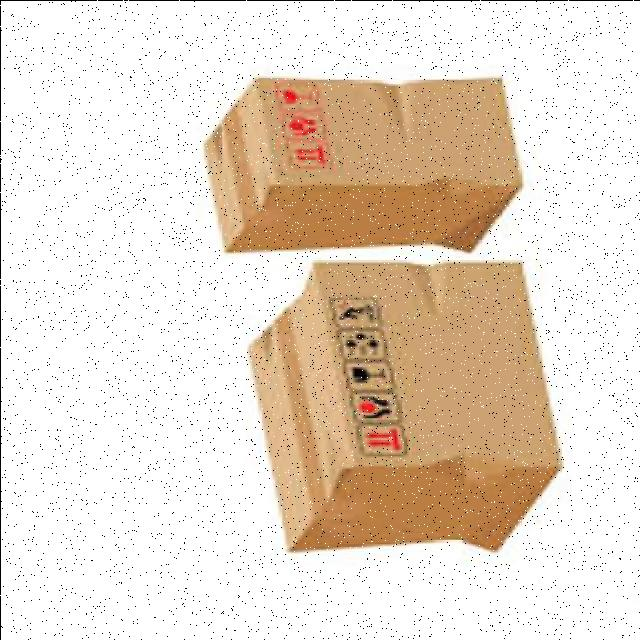defect: (248, 255, 566, 552), (202, 68, 518, 254)
